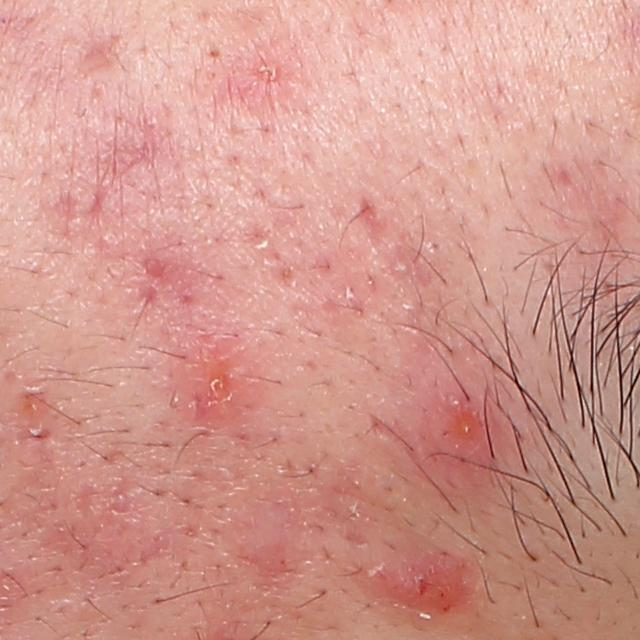atrophic_scar: (76, 28, 127, 72), (83, 185, 107, 224)
comedo: (205, 44, 223, 60)
papule: (173, 331, 259, 419), (422, 380, 504, 472), (376, 543, 473, 614), (233, 34, 299, 104)
